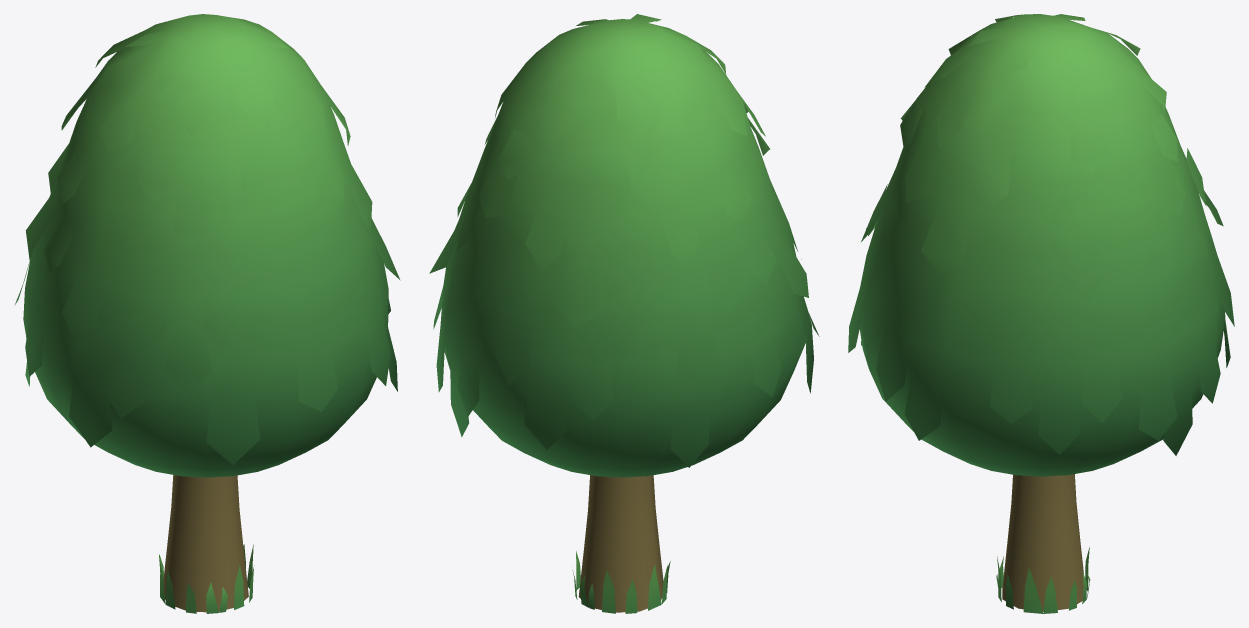
Rendered from 3D_tree_01.fbx.
3 views of the same model, side by side, from view 1: azimuth 30°, elevation 25°; view 2: azimuth 150°, elevation 25°; view 3: azimuth 270°, elevation 25° (orthographic).
Parts seen in each view (by area): view 1: Cylinder001; view 2: Cylinder001; view 3: Cylinder001.
Boxes of the visible parts, box(x1,y1,x2,y2) form: Cylinder001: box(14, 14, 400, 613); Cylinder001: box(429, 14, 819, 613); Cylinder001: box(848, 14, 1234, 613).
Size of the model in its own units: 74.54 by 122 by 75.64.
